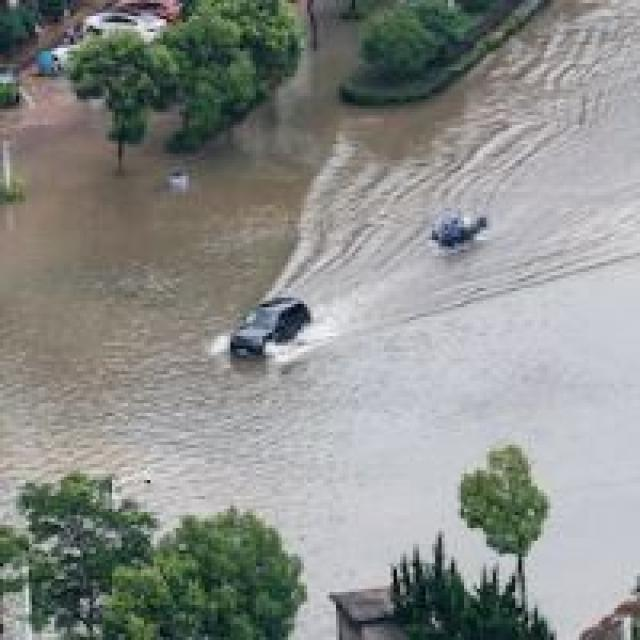flooded_areas: (0, 19, 634, 602)
